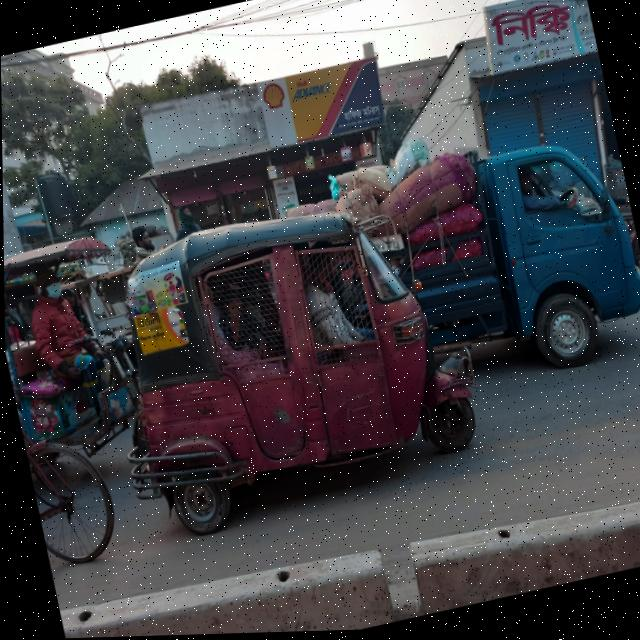cng: (62, 154, 505, 565)
